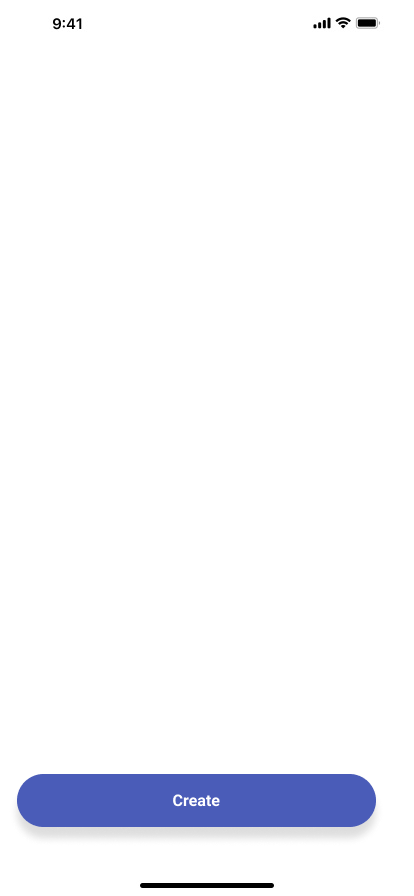Buttons: (8, 774, 385, 847)
Home Indicator: (0, 862, 414, 896)
Status Bar: (0, 0, 414, 44)
